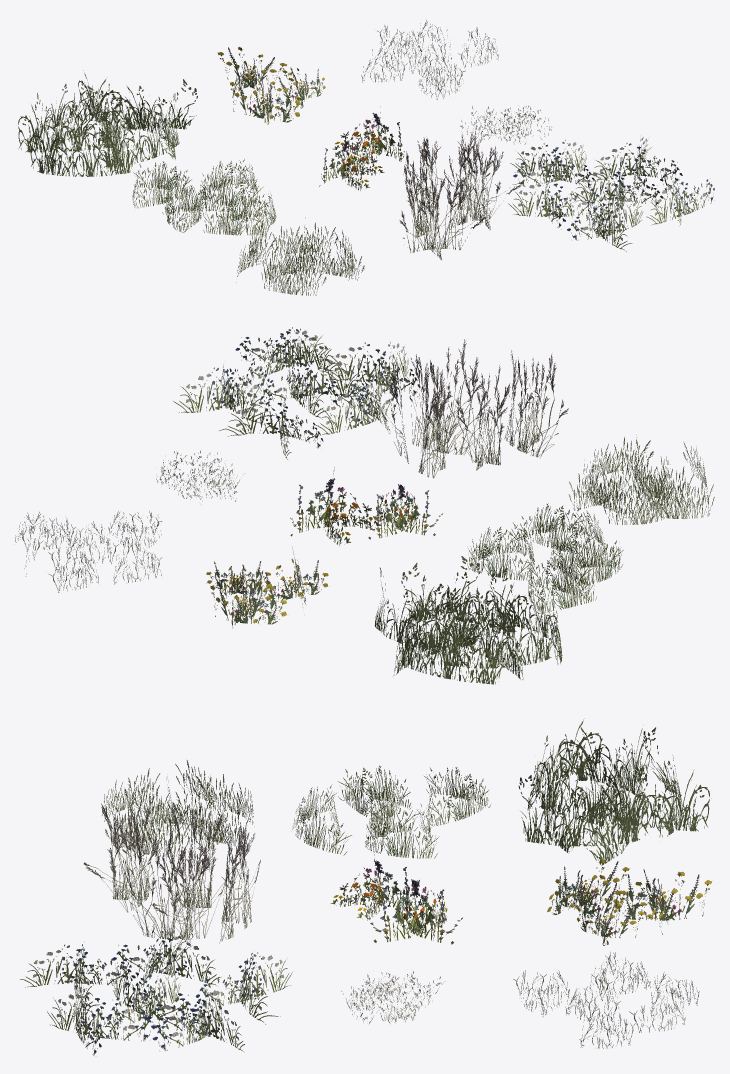
Rendered from flores_opt.glb.
3 views of the same model, one above another, from view 1: azimuth 30°, elevation 25°; view 2: azimuth 150°, elevation 25°; view 3: azimuth 270°, elevation 25° (orthographic). The views are drawn at different scales.
Visible parts, largest first — view 1: Grass_Reeds_LOD0_GrassBase_0, Grass_Reeds_LOD0_Grass_Reeds_0; view 2: Grass_Reeds_LOD0_GrassBase_0, Grass_Reeds_LOD0_Grass_Reeds_0; view 3: Grass_Reeds_LOD0_GrassBase_0, Grass_Reeds_LOD0_Grass_Reeds_0.
Boxes of the visible parts, x1=… form: Grass_Reeds_LOD0_GrassBase_0: x1=18, y1=20, x2=714, y2=295; Grass_Reeds_LOD0_Grass_Reeds_0: x1=399, y1=131, x2=524, y2=259; Grass_Reeds_LOD0_GrassBase_0: x1=15, y1=327, x2=714, y2=684; Grass_Reeds_LOD0_Grass_Reeds_0: x1=376, y1=339, x2=568, y2=478; Grass_Reeds_LOD0_GrassBase_0: x1=20, y1=718, x2=711, y2=1055; Grass_Reeds_LOD0_Grass_Reeds_0: x1=83, y1=785, x2=260, y2=943.
Size of the model in its own units: 12.73 by 2.16 by 13.
Materials: 2 (2 with a texture image).
